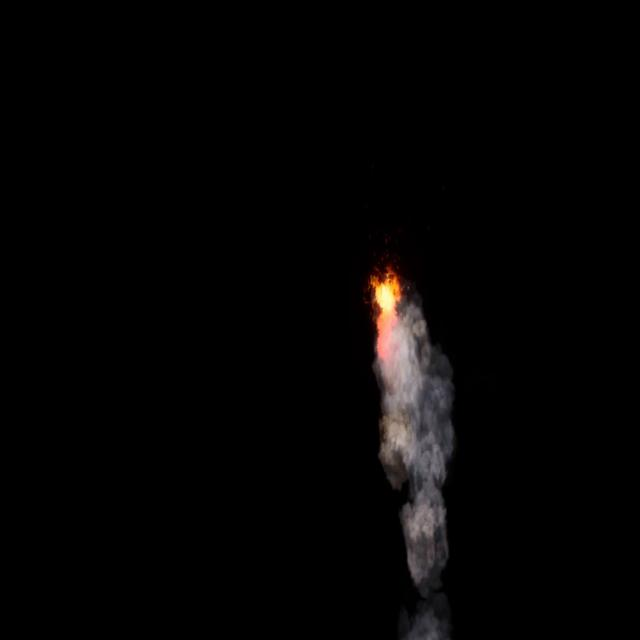fire: (372, 269, 402, 323)
smoke: (370, 312, 452, 588)
